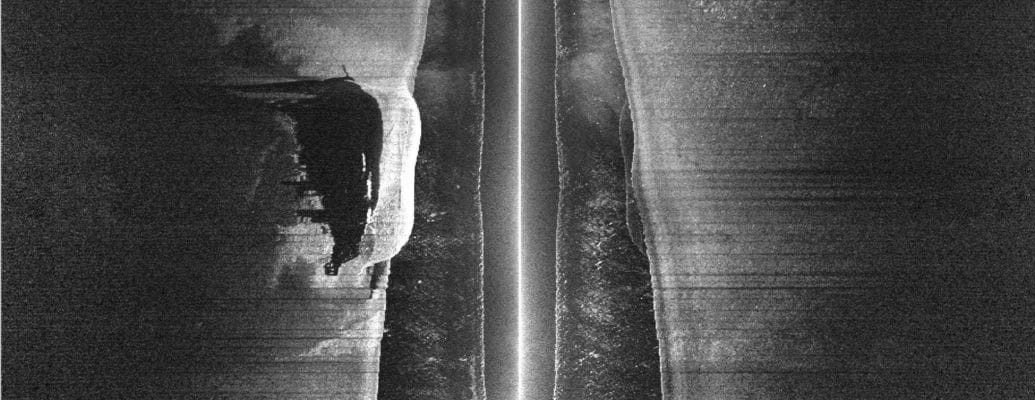ship: (331, 76, 420, 294)
